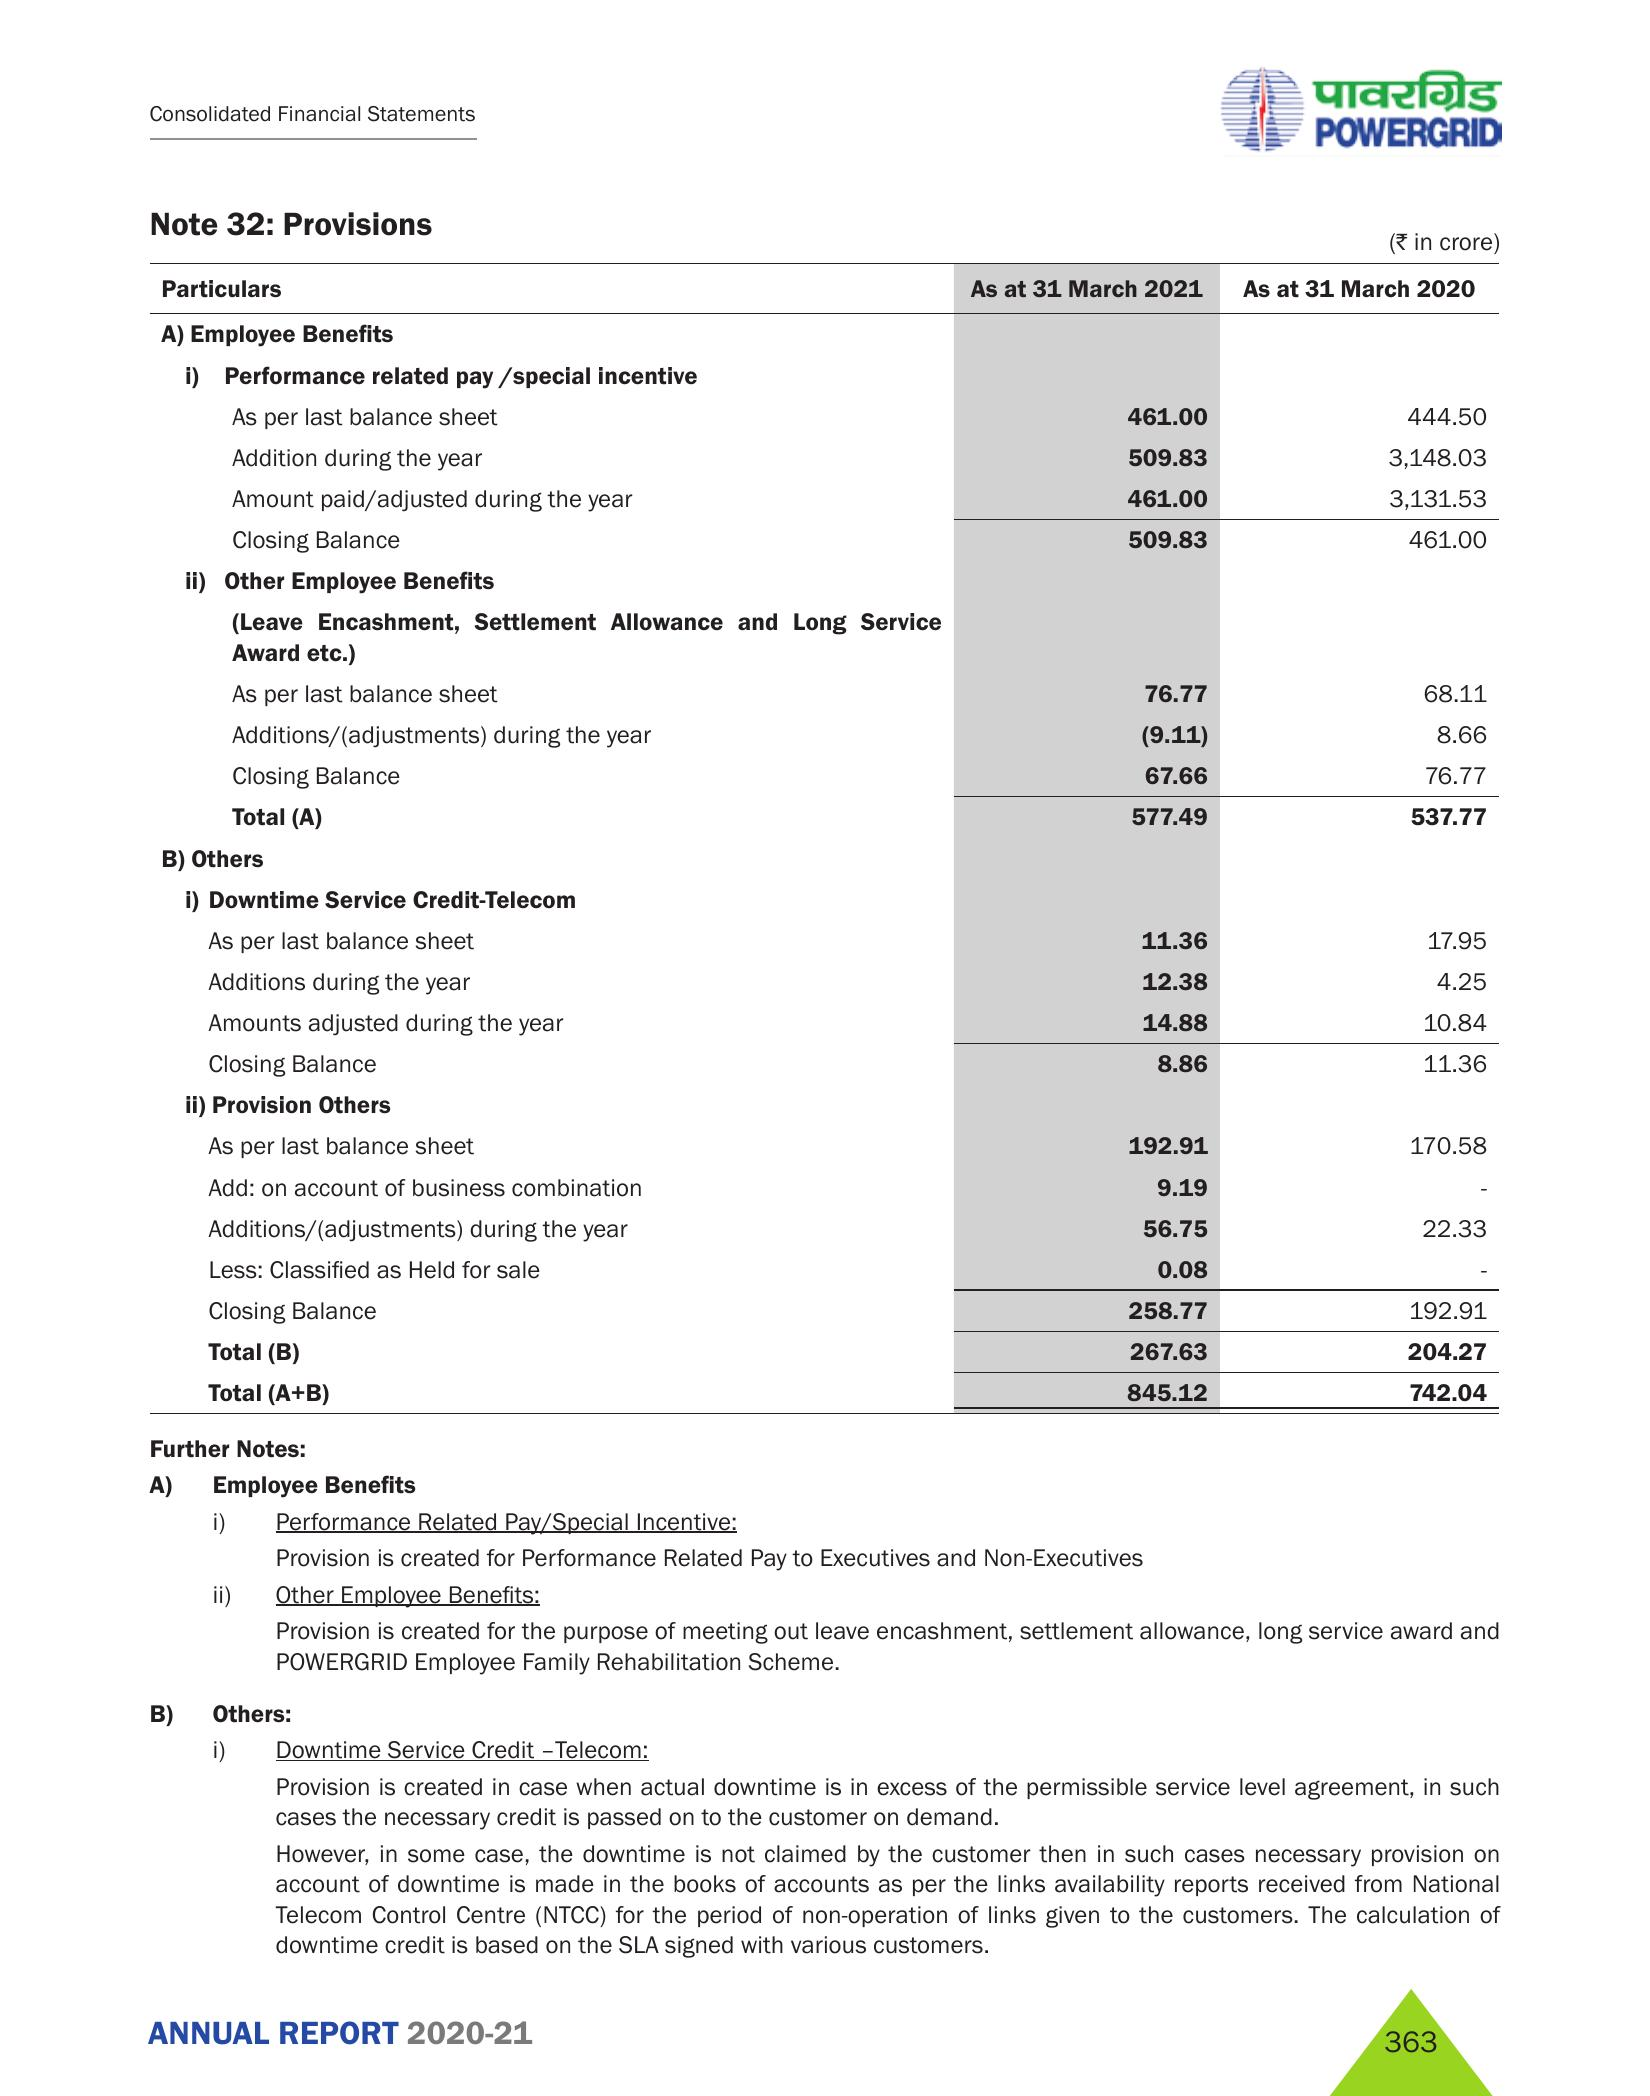Footer: (0, 1965, 1650, 2096)
Header: (0, 0, 1650, 155)
Table: (77, 265, 1504, 1414)
